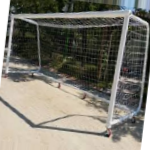goals: (5, 8, 149, 124)
